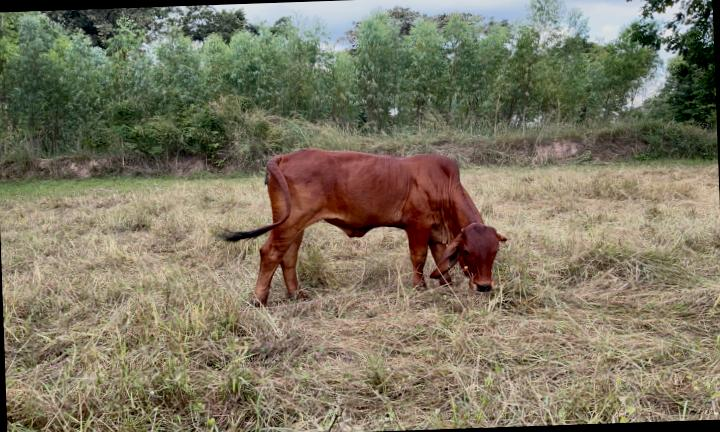Brahman: (223, 149, 507, 304)
